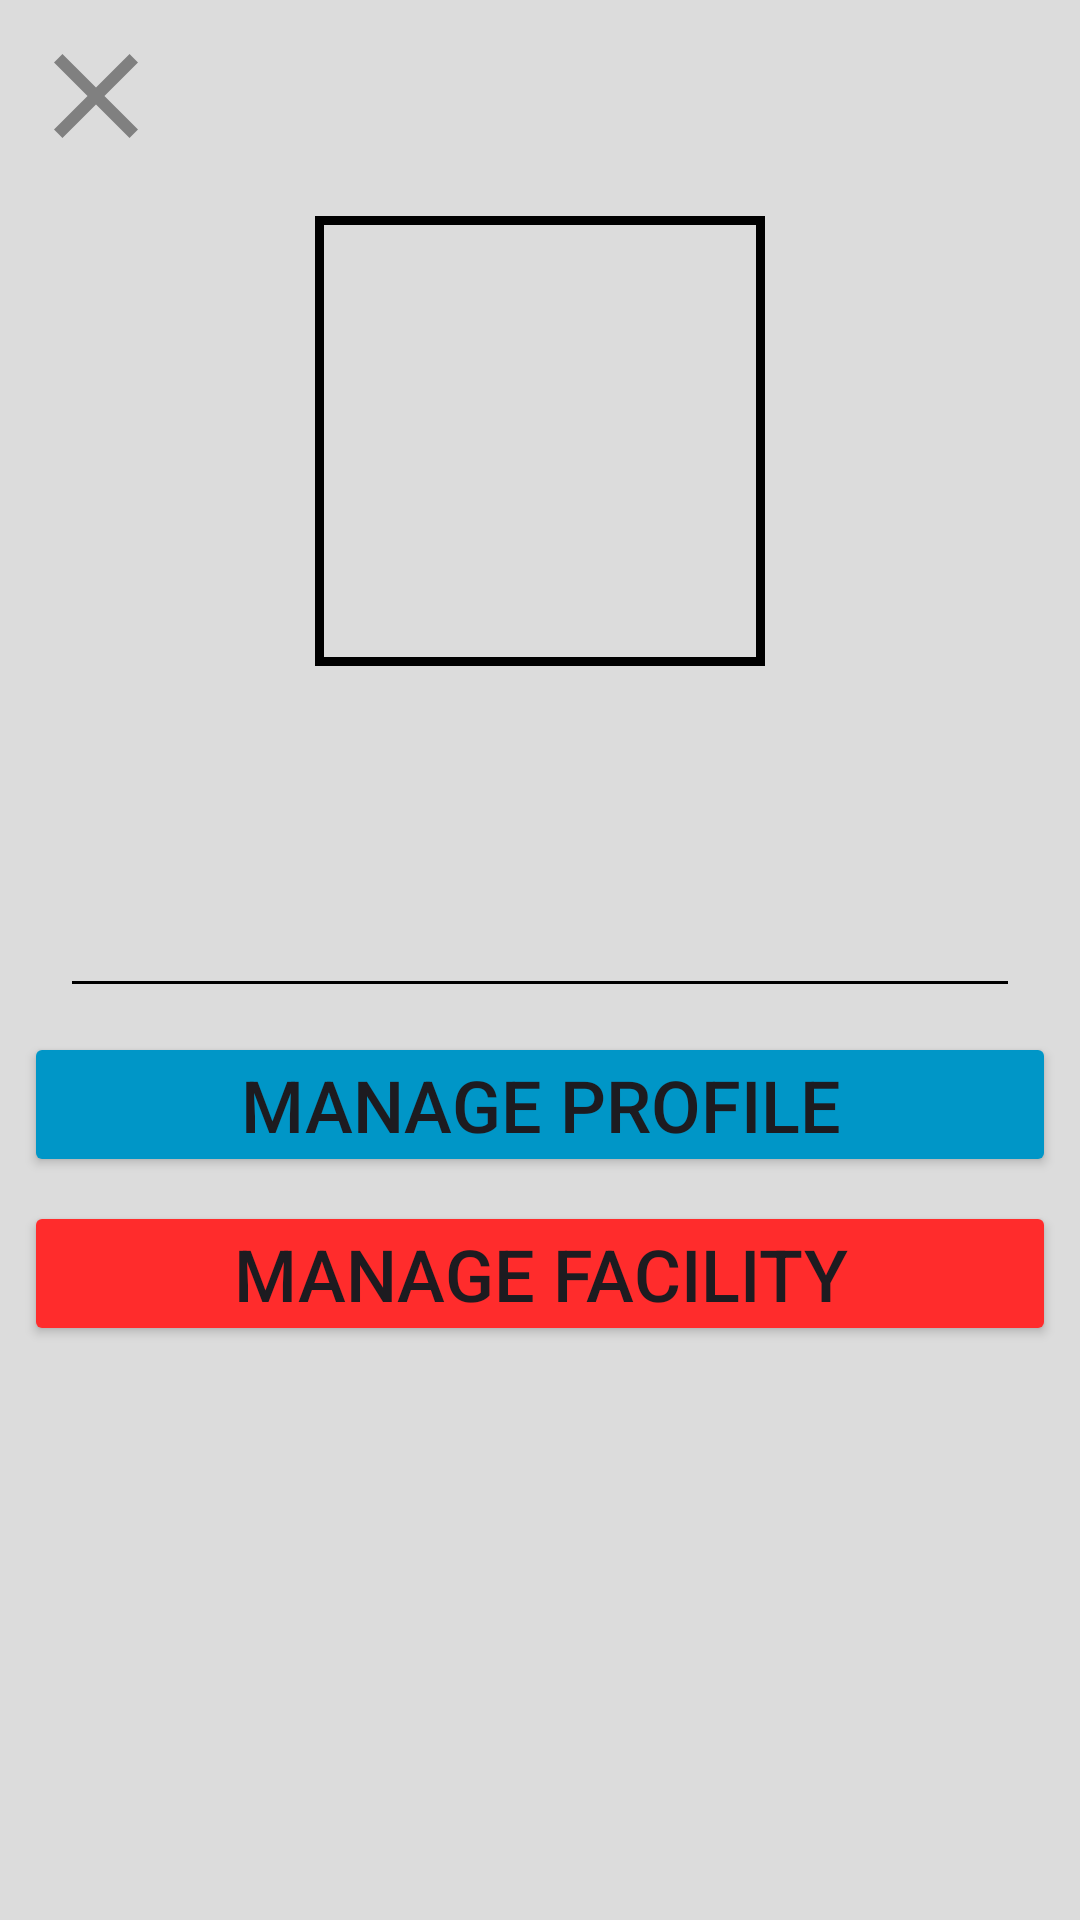

Where icons sit on this 1080px x 1920px app screen, as (x1, y1, x2, y2):
Close side drawer button: (54, 54, 138, 138)
